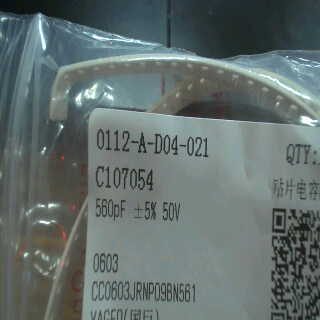560pF: (90, 195, 130, 226)
